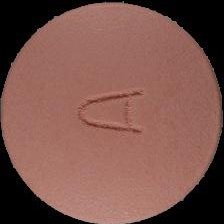53808-0688: (0, 0, 224, 224)
